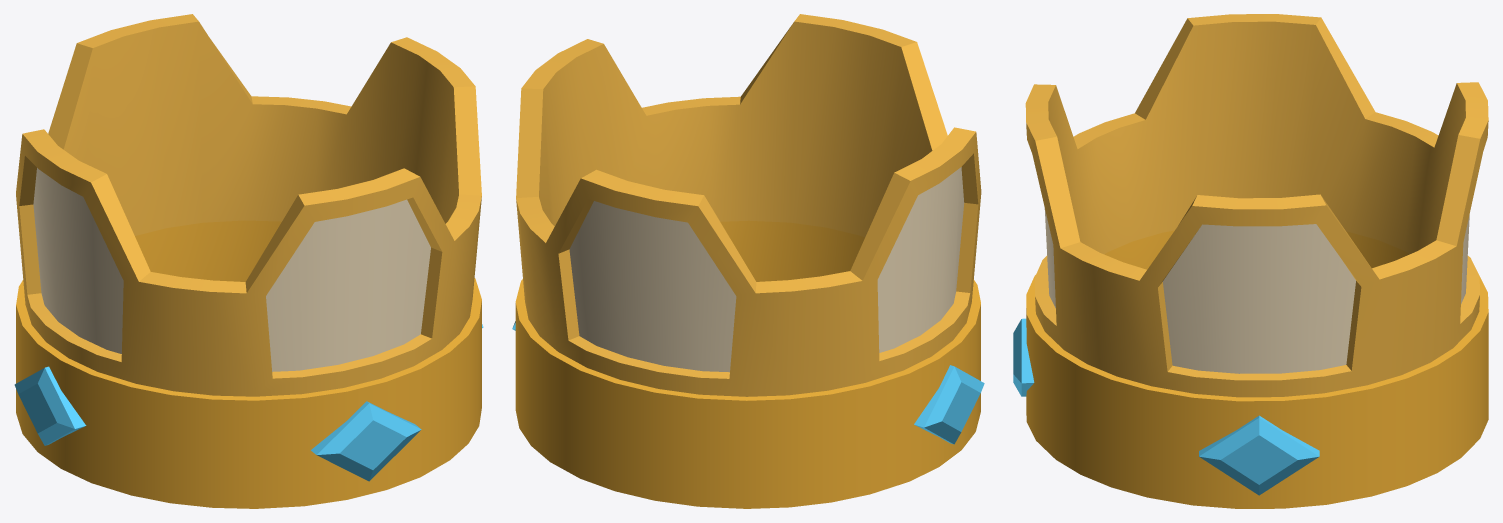
File: Crown B Multi.fbx
3 renders of one model, left to right at view 1: azimuth 30°, elevation 25°; view 2: azimuth 150°, elevation 25°; view 3: azimuth 270°, elevation 25°, orthographic.
Parts seen in each view (by area): view 1: Crown B; view 2: Crown B; view 3: Crown B.
Part boxes in pixels (<box>): Crown B: <box>14,14,483,508</box>; Crown B: <box>512,14,984,508</box>; Crown B: <box>1013,14,1488,508</box>.
Bounding box in the file's own units: 0.5493 × 0.3743 × 0.5351.
